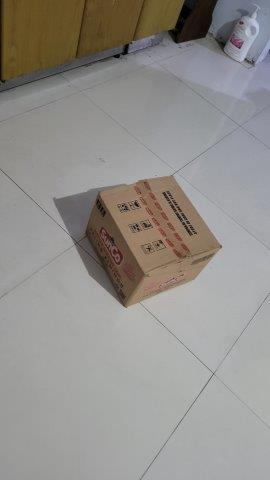kardus: (85, 174, 222, 307)
